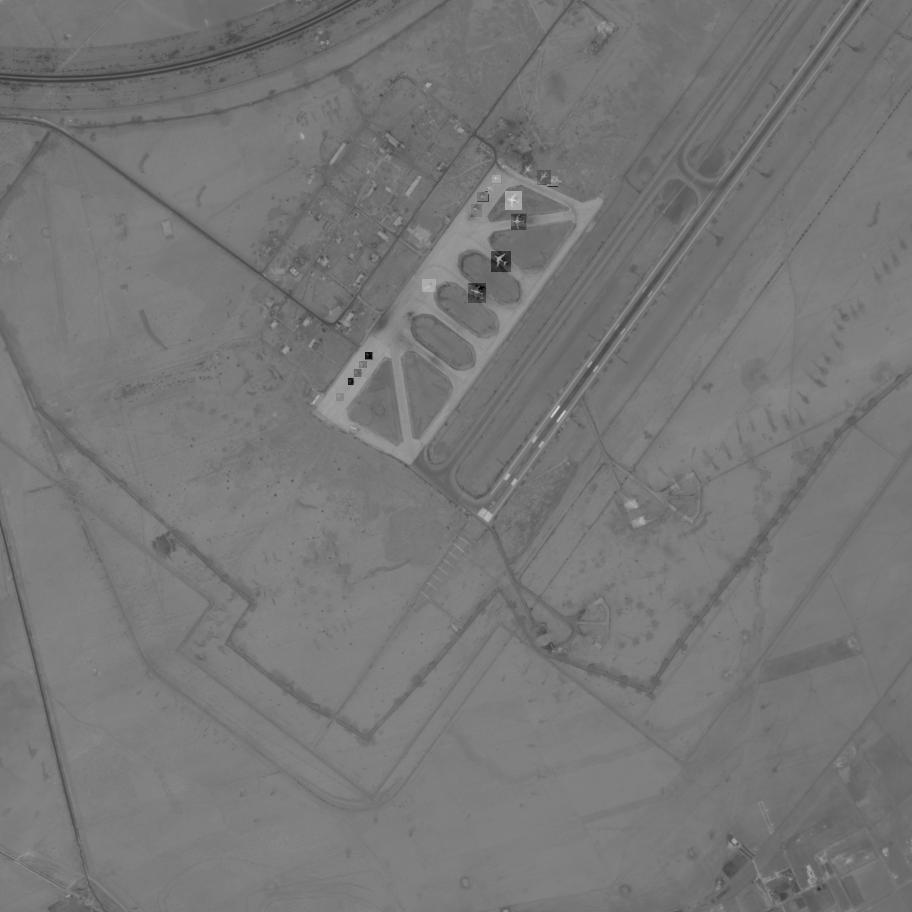plane: (491, 251, 512, 274), (468, 284, 487, 304), (504, 191, 522, 211), (511, 214, 527, 230), (537, 170, 552, 186), (523, 163, 538, 179), (422, 280, 437, 293), (548, 176, 560, 188), (350, 424, 362, 436), (471, 204, 482, 217), (478, 192, 489, 204), (493, 175, 503, 186), (485, 185, 496, 195), (365, 352, 374, 361), (336, 394, 344, 402), (354, 369, 362, 377), (359, 362, 367, 369), (349, 378, 355, 385)
